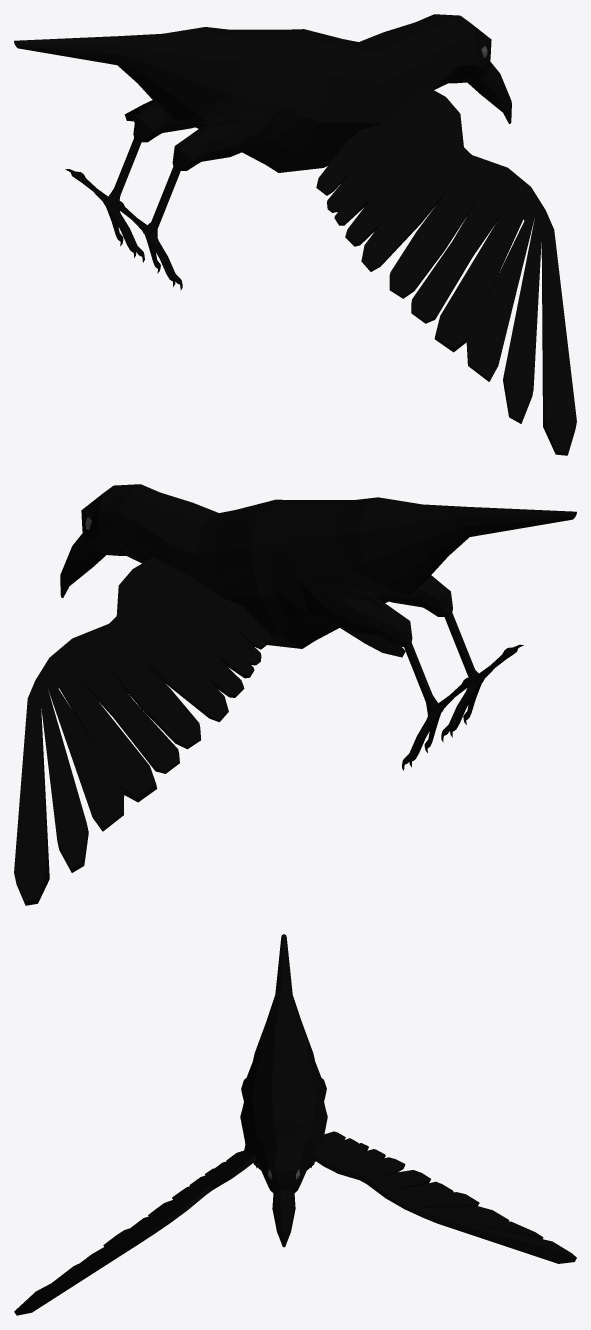
File: crow_down_000007.obj
The picture shows the model from 3 angles, top to bottom: view 1: azimuth 30°, elevation 25°; view 2: azimuth 150°, elevation 25°; view 3: azimuth 270°, elevation 25°; orthographic projection. The views are drawn at different scales.
Parts seen in each view (by area): view 1: Cylinder; view 2: Cylinder; view 3: Cylinder.
Part boxes in pixels (box(x1,y1,x2,y2)): Cylinder: box(14, 14, 576, 455); Cylinder: box(14, 484, 576, 905); Cylinder: box(14, 934, 576, 1315).
Bounding box in the file's own units: 1.51 × 1.06 × 2.11.
